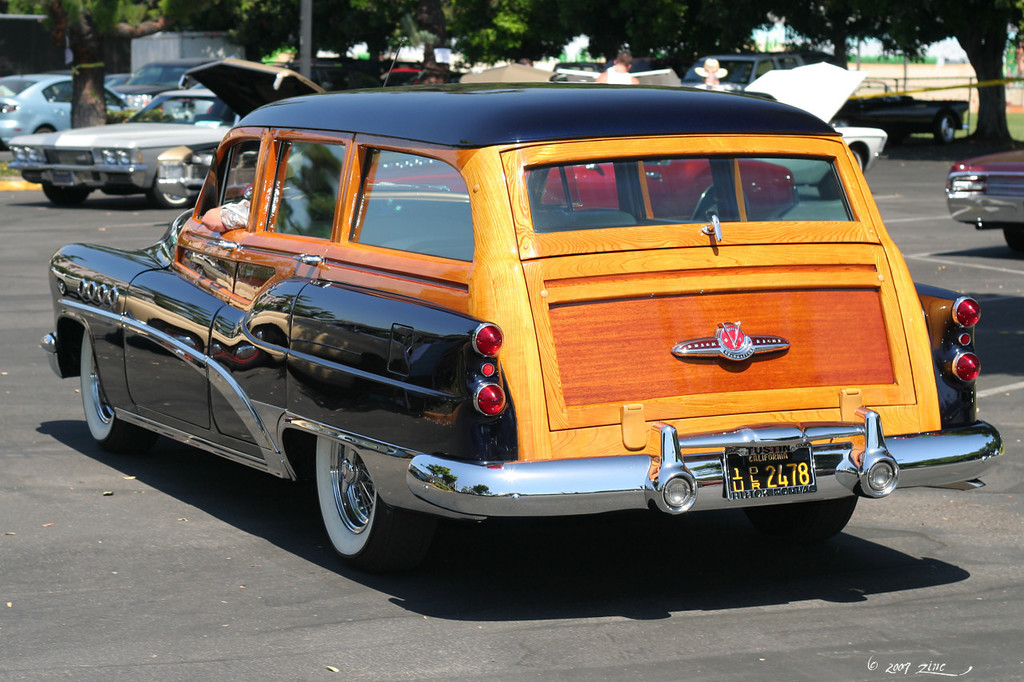Car: (67, 83, 989, 620), (372, 156, 796, 223), (5, 90, 247, 201), (745, 62, 887, 201), (0, 73, 127, 145), (947, 148, 1023, 259), (832, 96, 967, 141)
